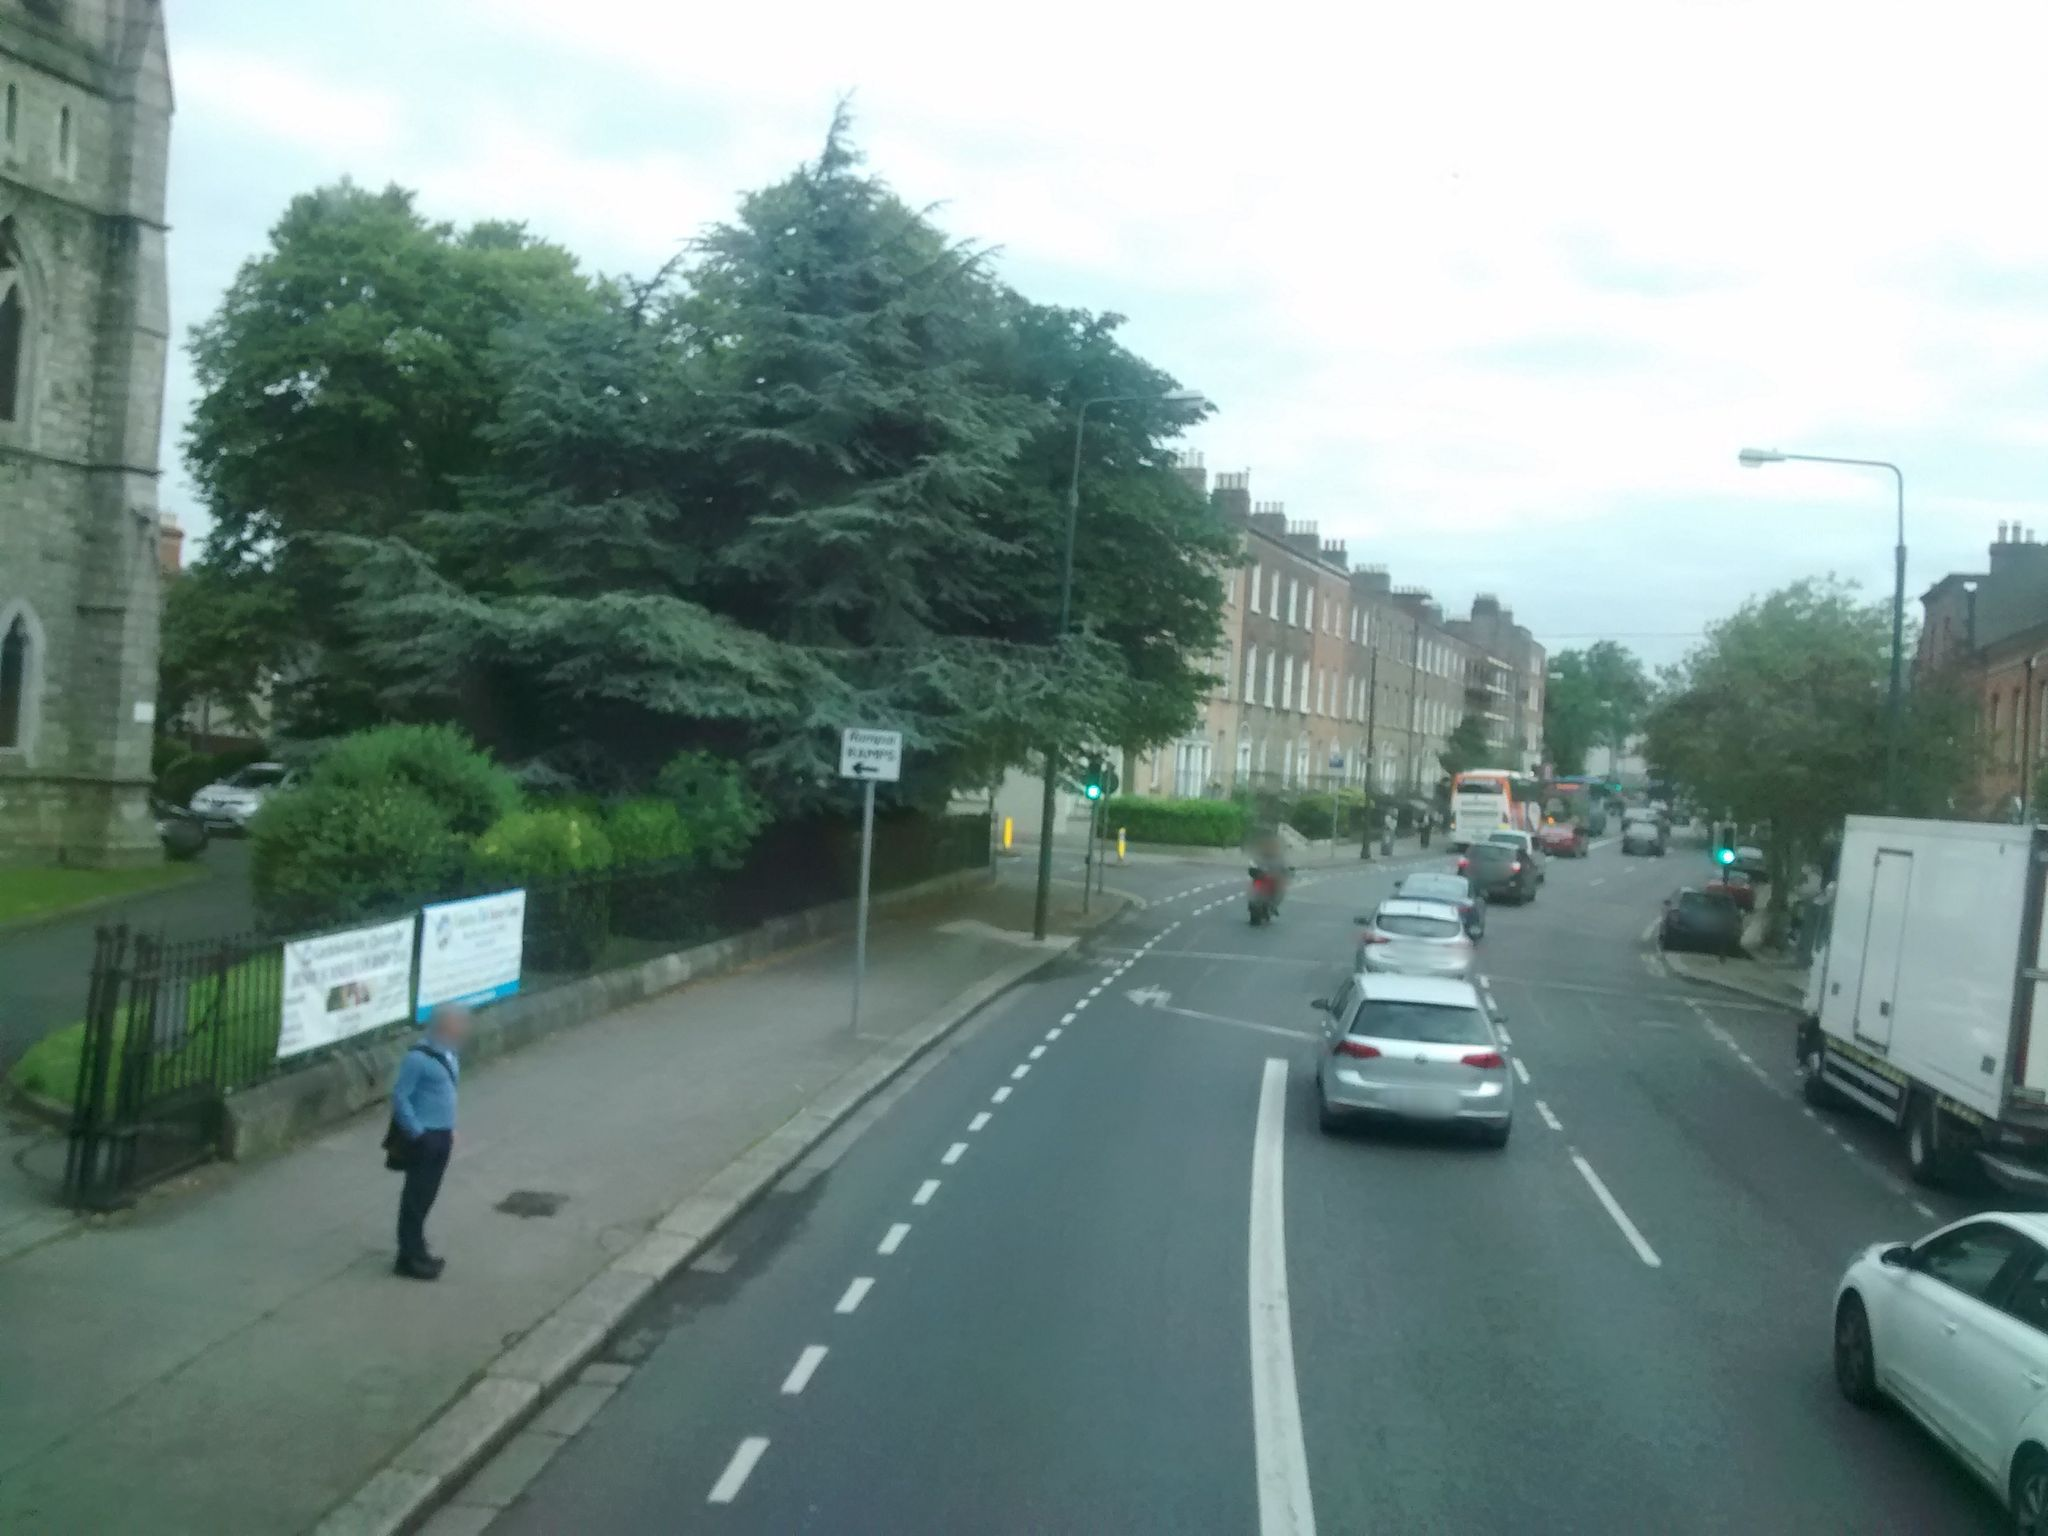vinyl banner: (276, 912, 427, 1049), (416, 886, 526, 1021)
